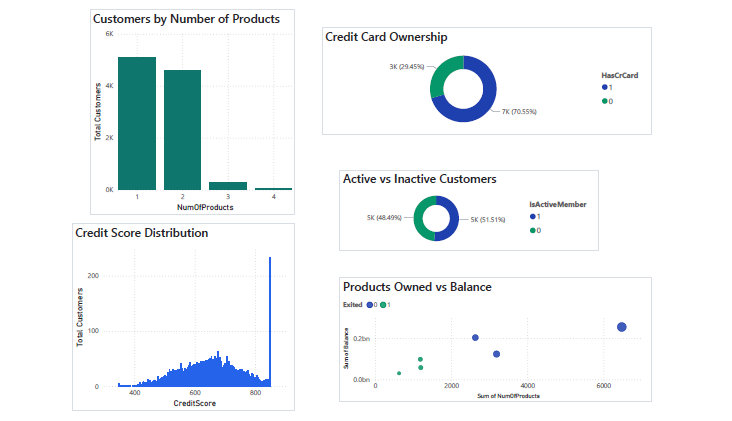

This screenshot's page, from the dashboard's own definition file:
{"tool":"powerbi","page":{"name":"Product & Customer Value","canvas":[1280,720],"ordinal":4},"visuals":[{"type":"clusteredColumnChart","title":"Customers by Number of Products","fields":{"Y":["BankCustomers.Total Customers"],"Category":["BankCustomers.NumOfProducts"]},"box":[144,0,368,368],"z":0},{"type":"clusteredColumnChart","title":"Credit Score Distribution","fields":{"Y":["BankCustomers.Total Customers"],"Category":["BankCustomers.CreditScore"]},"box":[112,384,400,336],"z":1000},{"type":"donutChart","title":"Credit Card Ownership","fields":{"Category":["BankCustomers.HasCrCard"],"Y":["BankCustomers.Total Customers"]},"box":[560,32,592,192],"z":2000},{"type":"donutChart","title":"Active vs Inactive Customers","fields":{"Category":["BankCustomers.IsActiveMember"],"Y":["BankCustomers.Total Customers"]},"box":[592,288,464,144],"z":3000},{"type":"scatterChart","title":"Products Owned vs Balance","fields":{"X":["Sum(BankCustomers.NumOfProducts)"],"Y":["Sum(BankCustomers.Balance)"],"Category":["BankCustomers.Geography"],"Size":["Sum(BankCustomers.EstimatedSalary)"],"Series":["BankCustomers.Exited"]},"box":[592,480,560,224],"z":4000}]}

Visuals, with their boxes in screenshot pixels (x1, y1, x2, y2), scaled from the page's 1280x720 canvas onto the 732x421 screenshot:
"Customers by Number of Products" clusteredColumnChart: (left=82, top=0, right=293, bottom=215)
"Credit Score Distribution" clusteredColumnChart: (left=64, top=225, right=293, bottom=420)
"Credit Card Ownership" donutChart: (left=320, top=19, right=659, bottom=131)
"Active vs Inactive Customers" donutChart: (left=339, top=168, right=604, bottom=253)
"Products Owned vs Balance" scatterChart: (left=339, top=281, right=659, bottom=412)
